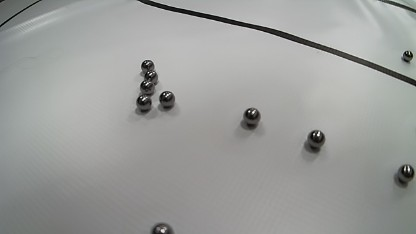ironball: (242, 107, 260, 125), (307, 130, 325, 148), (398, 164, 414, 183), (136, 94, 152, 111), (159, 91, 175, 107), (140, 79, 155, 95), (151, 223, 172, 234), (144, 70, 158, 84), (141, 59, 155, 72), (403, 50, 413, 62)
